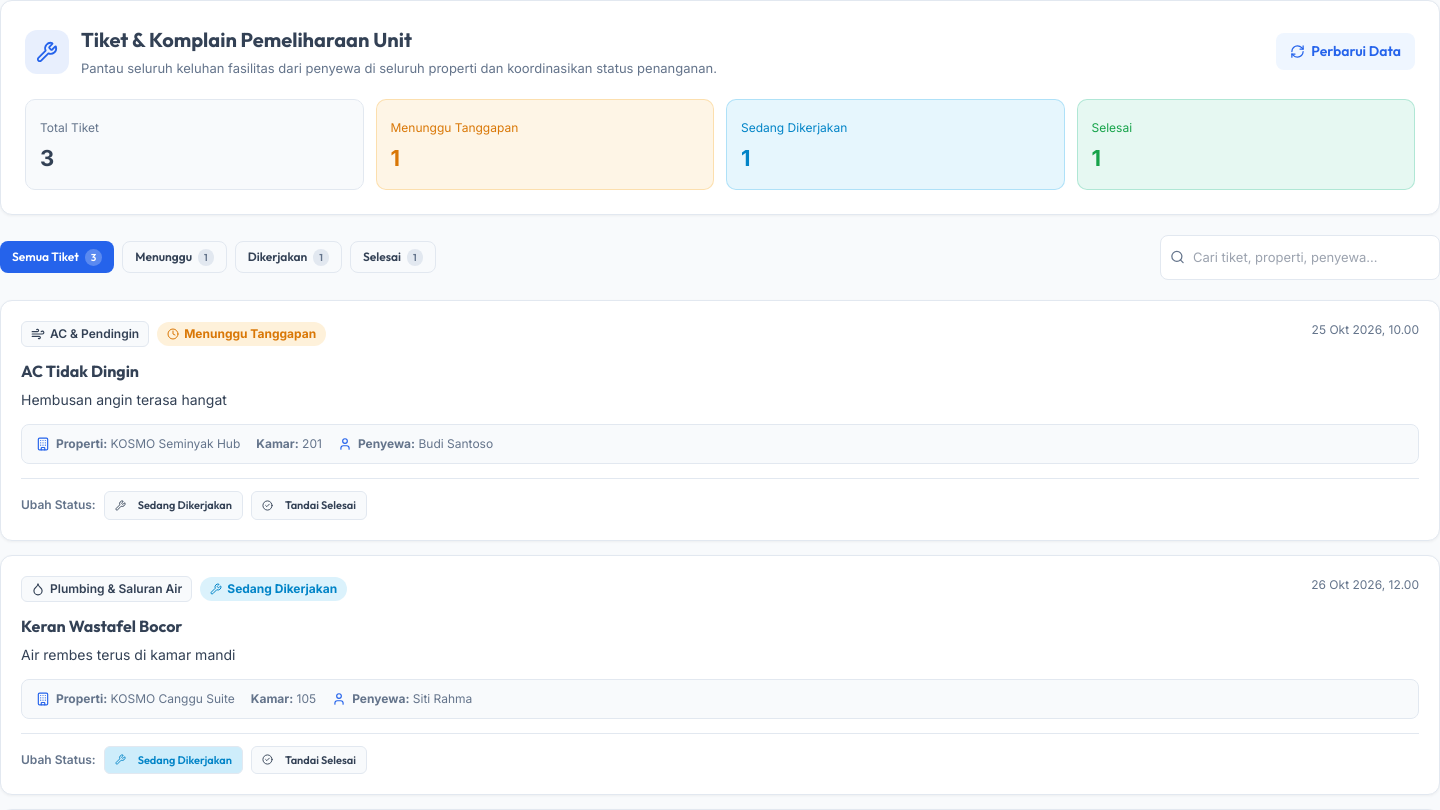
Scenario: Admin MaintenanceTab Component Suite › filters tickets by search query
This screenshot has width=1440, height=810.
Type "Wastafel" into the field with test id "tickets-search-input" at (1300, 257), box [1160,234,1439,280]
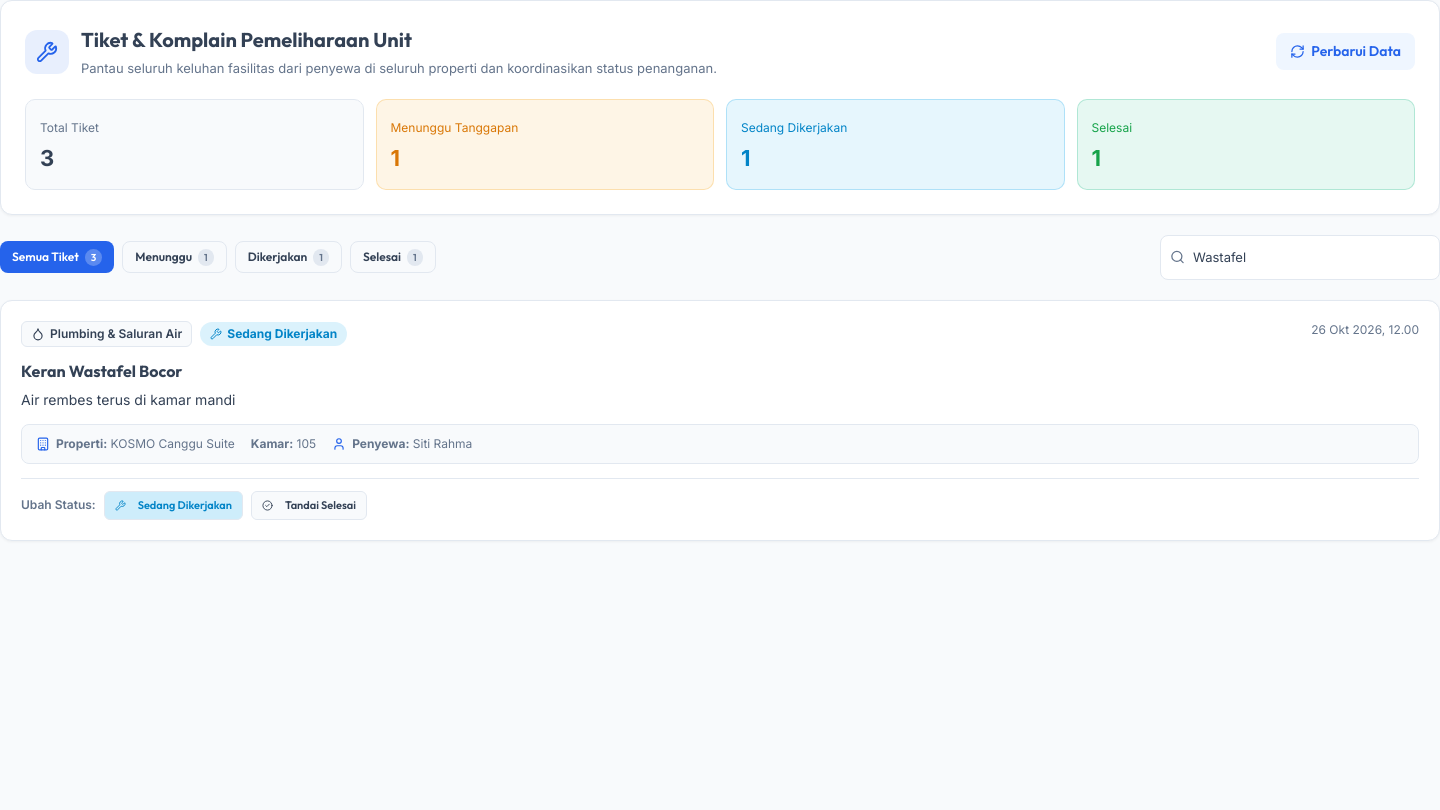
Check: the heading "Keran Wastafel Bocor" is shown, box [21,361,182,381]
Check: the heading "AC Tidak Dingin" is gone
